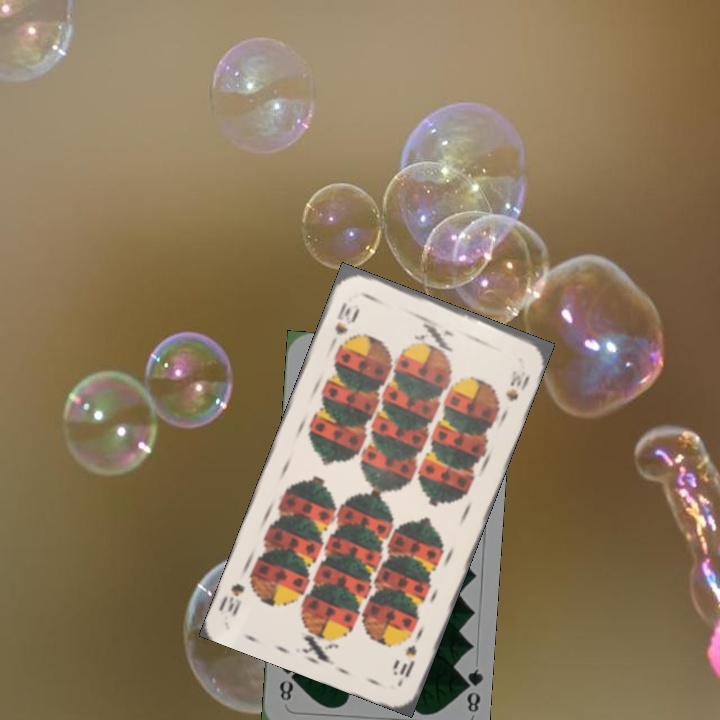G8: (456, 665, 485, 715)
S10: (326, 298, 360, 349), (390, 640, 420, 681)
